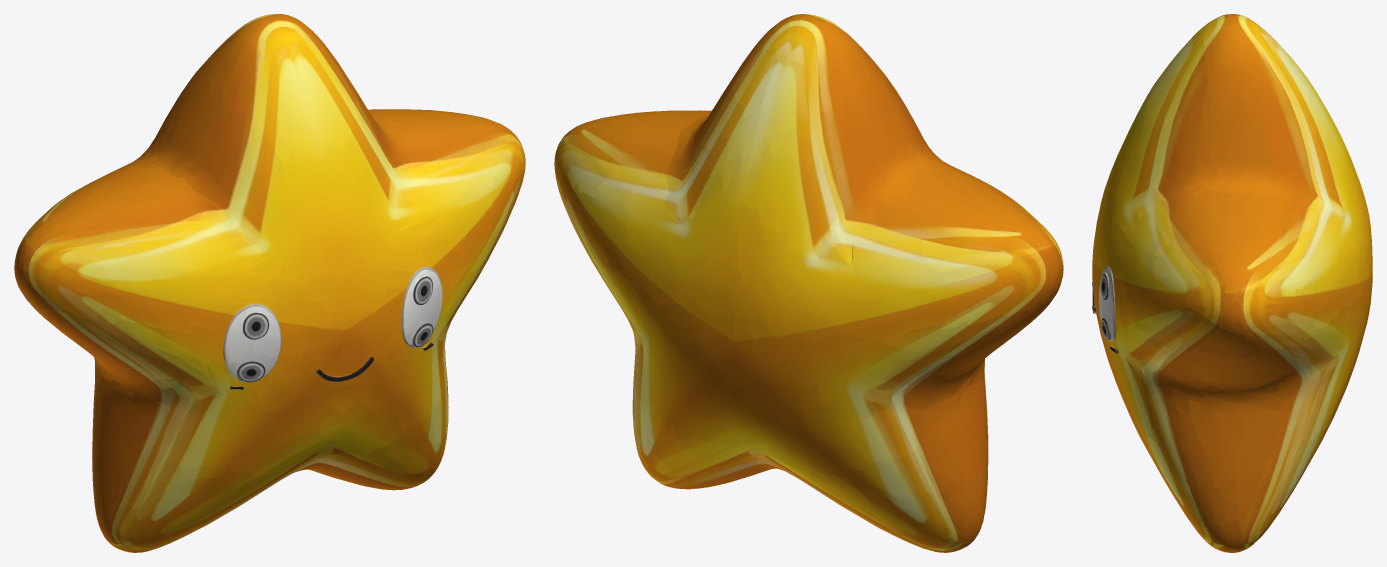
Rendered from good.glb.
3 views of the same model, side by side, from view 1: azimuth 30°, elevation 25°; view 2: azimuth 150°, elevation 25°; view 3: azimuth 270°, elevation 25° (orthographic). The views are drawn at different scales.
Bounding box in the file's own units: 1.9 × 1.81 × 0.9783.
Materials: 1 (1 with a texture image).
